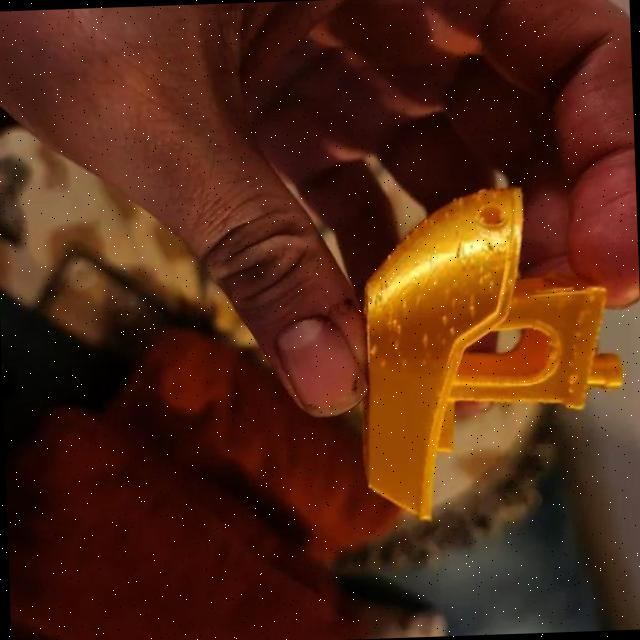blobs: (397, 358, 411, 372), (485, 278, 500, 291), (450, 195, 465, 208), (437, 312, 450, 326), (437, 336, 450, 350), (420, 334, 430, 351), (393, 324, 406, 336), (467, 299, 478, 313), (392, 341, 402, 354), (370, 345, 380, 358), (447, 326, 458, 337), (379, 360, 390, 370)
